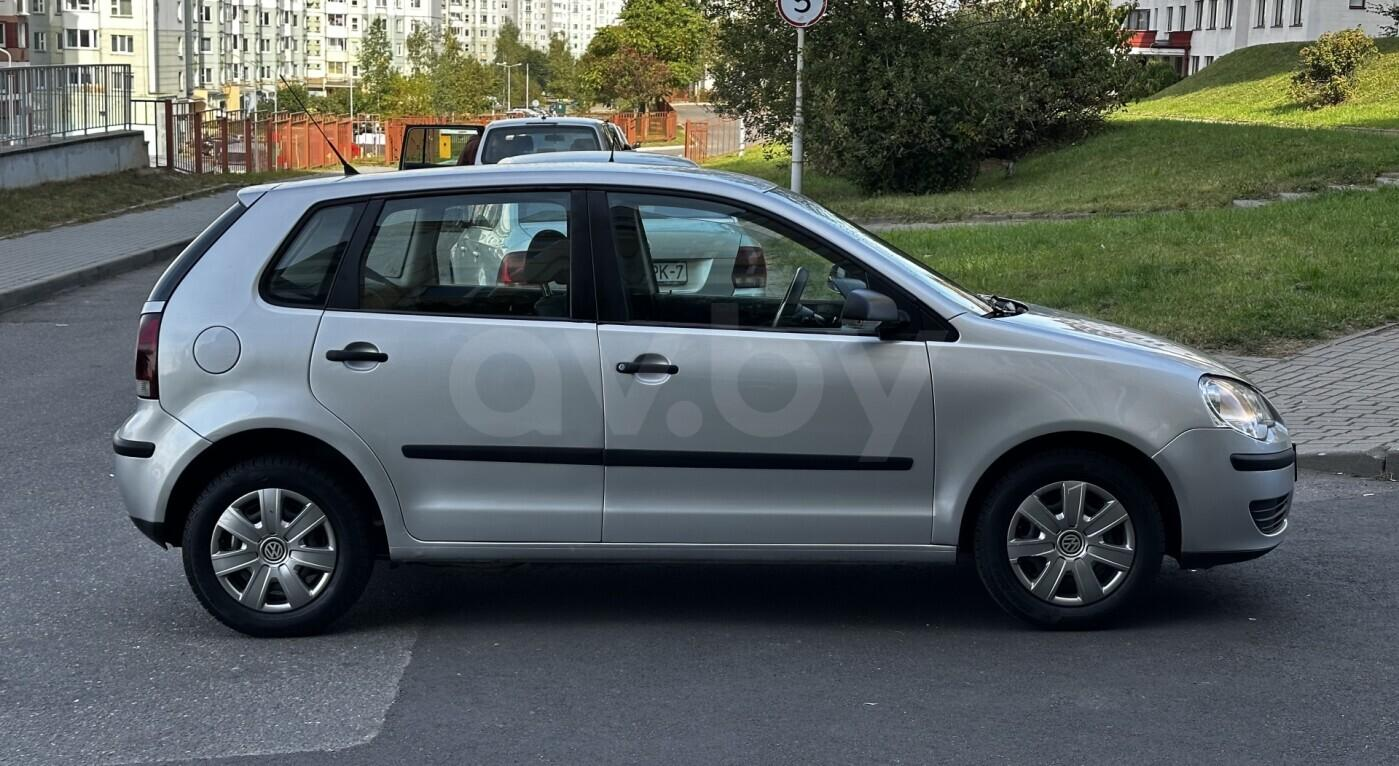Polo_2005-2009: (106, 155, 1299, 645)
